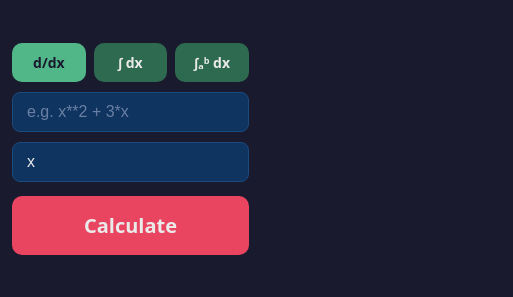
it: CalculusPanel › shows bound inputs when definite_integral is selected
This screenshot has width=513, height=297.
Click the button "∫ₐᵇ dx" at (212, 62), box 175,43 -> 249,82
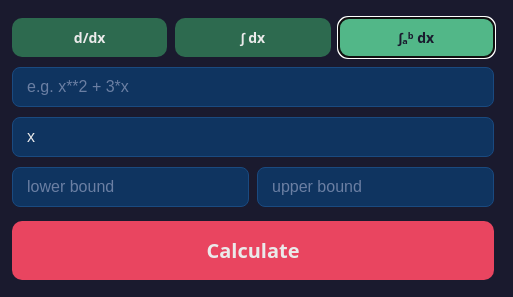
Expected: the field labelled "lower bound" is shown, 12,167 -> 249,207
Expected: the field labelled "upper bound" is shown, 257,167 -> 494,207
